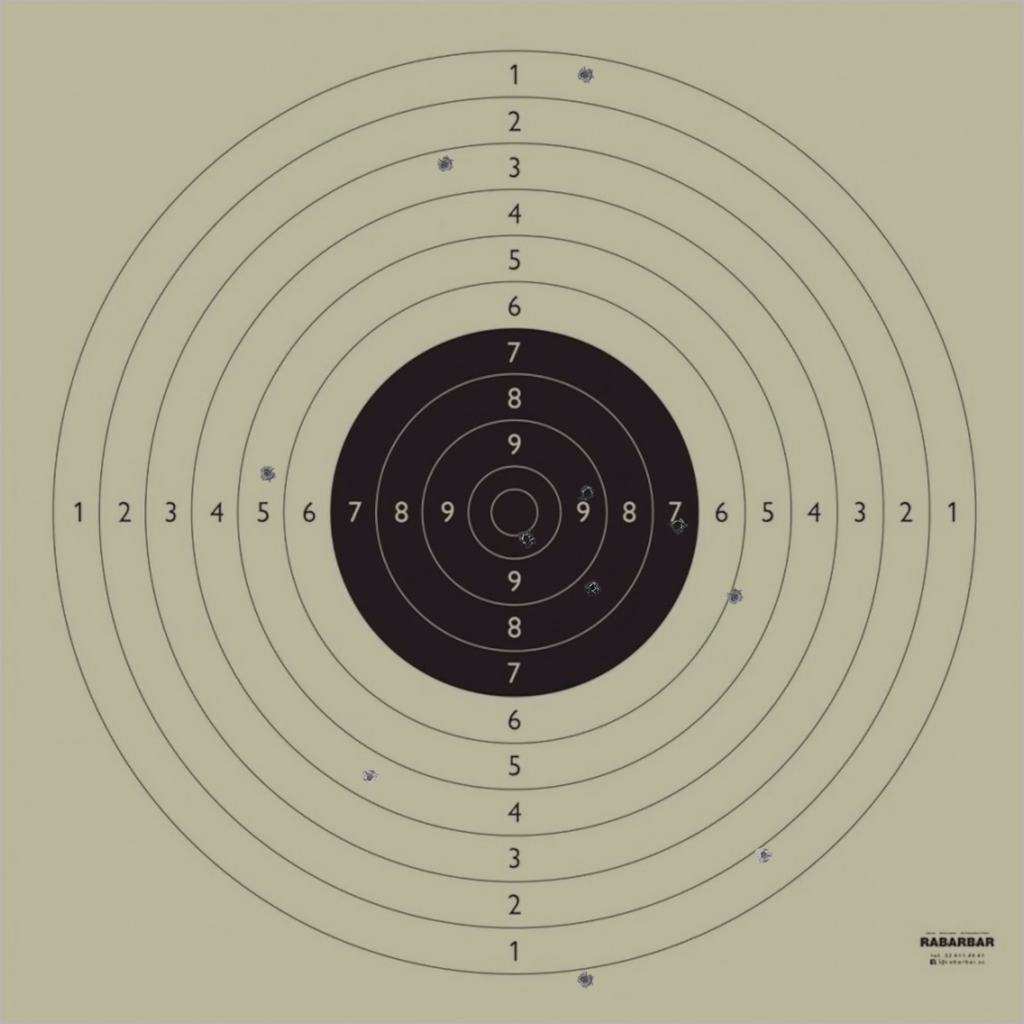0 punktow: (576, 970, 594, 989)
1 punkt: (576, 66, 594, 84)
10 punktow: (518, 530, 536, 548)
2 punkty: (755, 846, 773, 864)
3 punkty: (436, 155, 454, 174)
4 punkty: (360, 768, 379, 786)
5 punktow: (258, 464, 277, 482)
6 punktow: (725, 588, 744, 606)
7 punktow: (668, 516, 687, 534)
8 punktow: (584, 578, 602, 597)
9 punktow: (578, 484, 596, 502)
